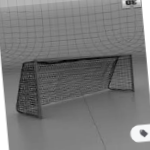goals: (15, 52, 137, 119)
